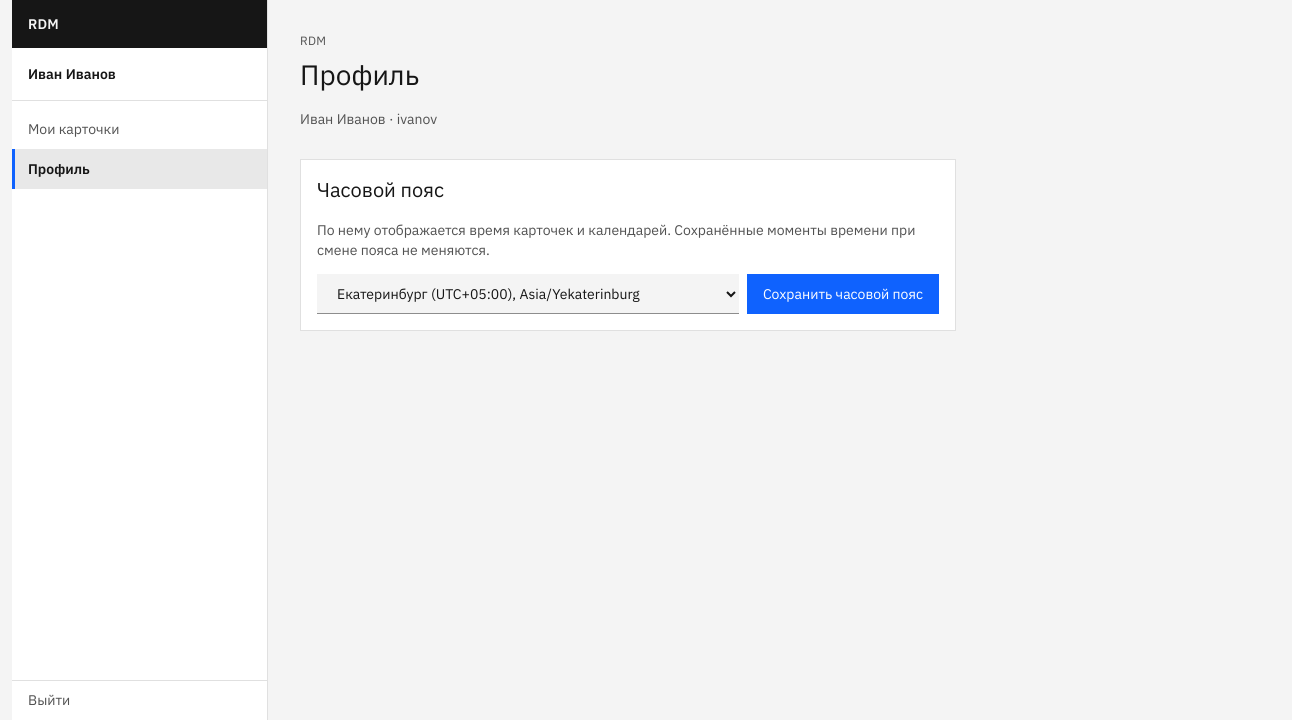
Scenario: FE-03 Profile Timezone in UI › allows user to update own profile timezone and updates UI immediately
Select "UTC (UTC+00:00)" in the dropdown named "Часовой пояс профиля" at (528, 294), box [317, 274, 739, 314]
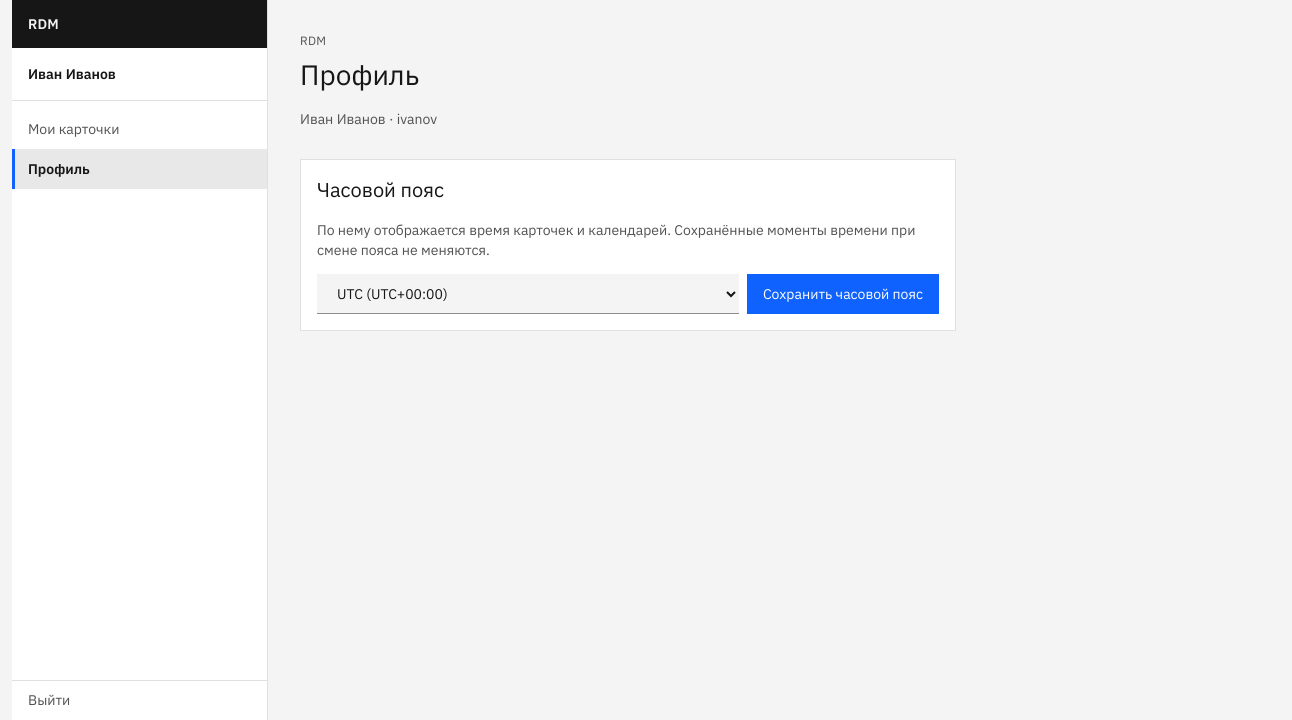
Submit the form, box [317, 274, 939, 314]
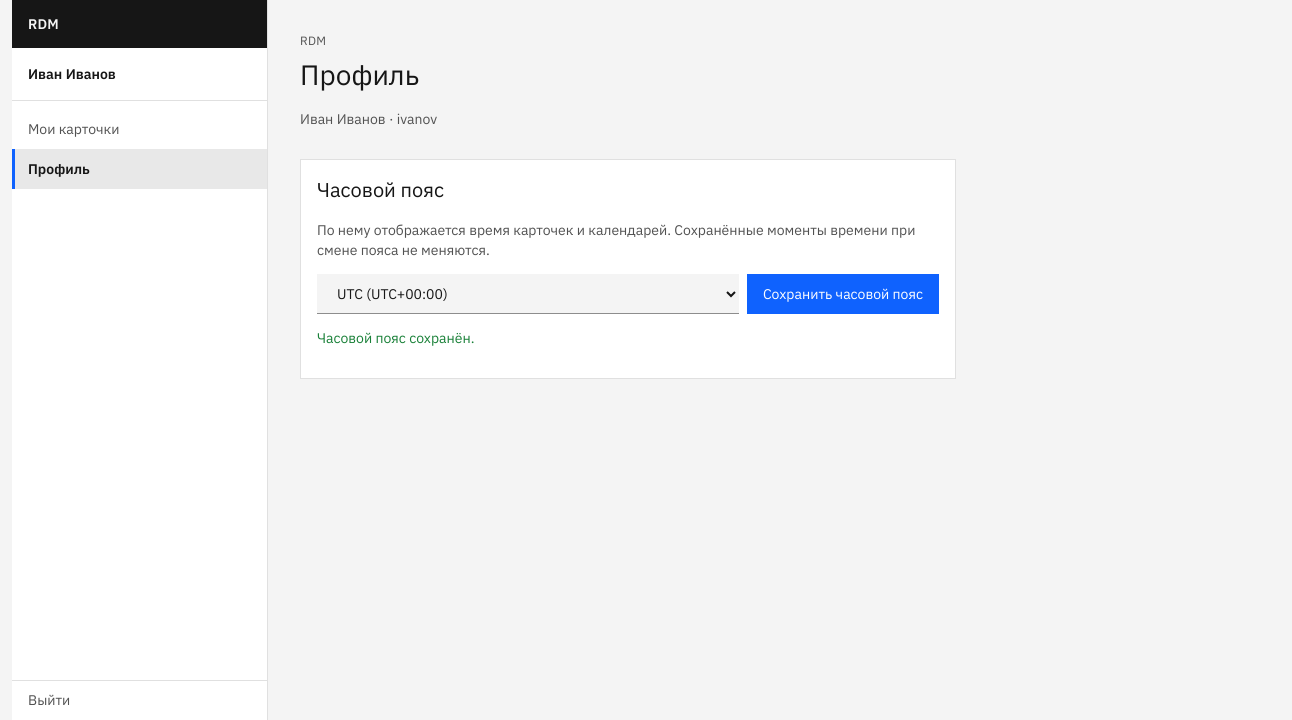
Now the text "Часовой пояс сохранён." is shown, box [317, 329, 474, 347]
